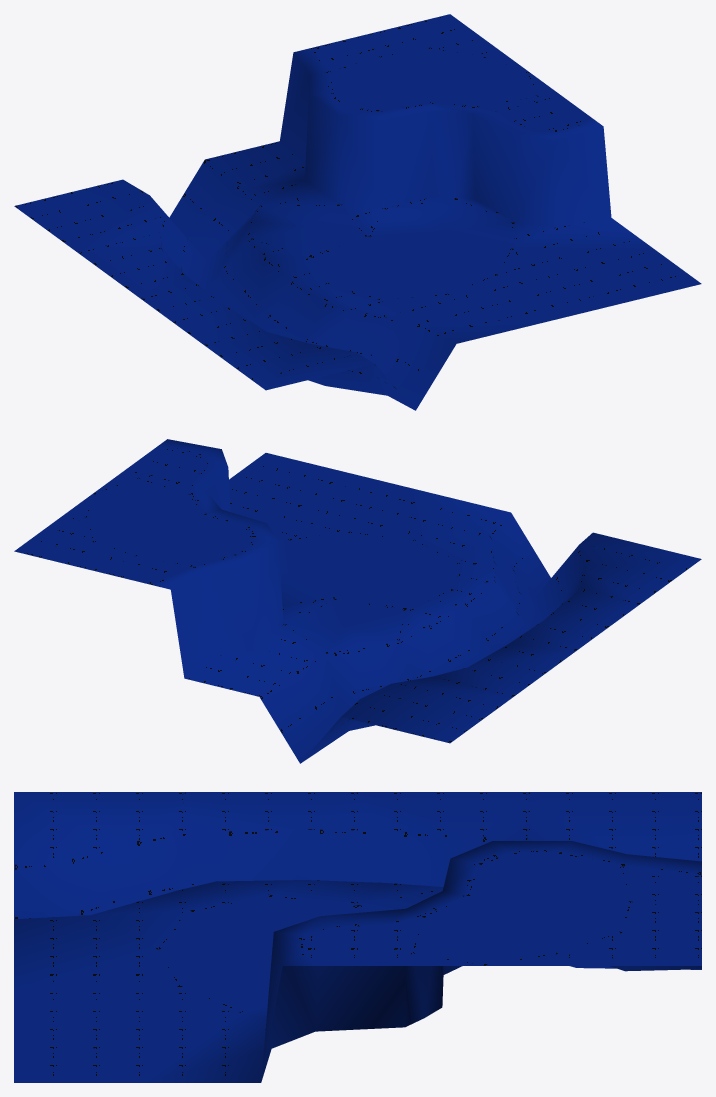
File: GRD_S_C7_R1_2.fbx
3 renders of one model, top to bottom at view 1: azimuth 30°, elevation 25°; view 2: azimuth 150°, elevation 25°; view 3: azimuth 270°, elevation 25°, orthographic. The views are drawn at different scales.
Visible parts, largest first — view 1: material_00012000, material_00042000, material_C0022000, material_C0032000; view 2: material_00012000, material_C0022000, material_C0032000, material_00042000; view 3: material_00012000, material_C0022000, material_C0032000, material_00042000.
Boxes of the visible parts, x1,y1,x2,y2 form: material_00012000: (14,14,701,390); material_00042000: (280,47,611,227); material_C0022000: (249,47,539,299); material_C0032000: (152,160,456,410); material_00012000: (14,447,701,743); material_C0022000: (84,477,459,653); material_C0032000: (259,513,584,763); material_00042000: (151,439,283,678); material_00012000: (14,792,701,1082); material_C0022000: (155,852,632,1019); material_C0032000: (14,829,701,969); material_00042000: (261,841,701,1081).
Bounding box in the file's own units: 12800 × 4000 × 12800.
